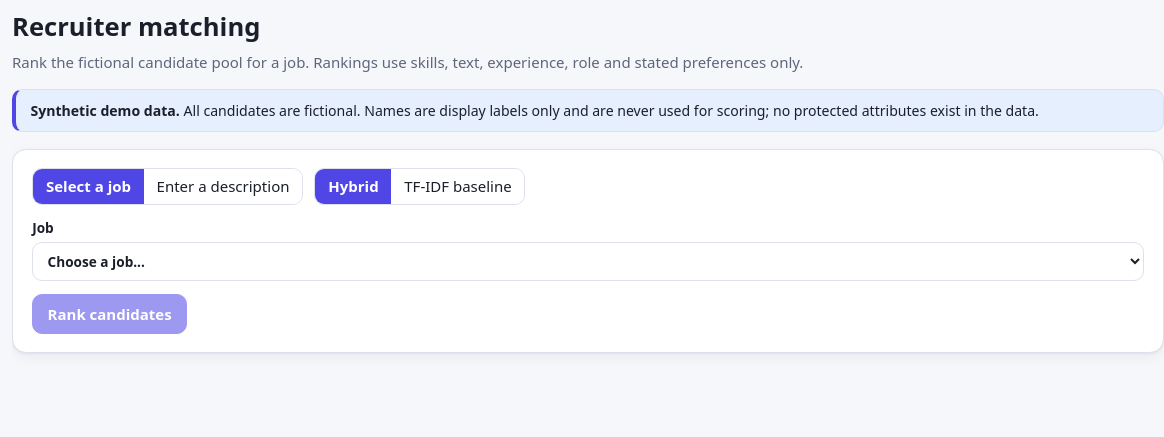
Test: Recruiter page › shows the API's validation message when matching fails
This screenshot has width=1164, height=437.
Select "Job 1 - Acme (fictional)" in the dropdown labelled "Job" at (588, 262), box [32, 242, 1144, 281]
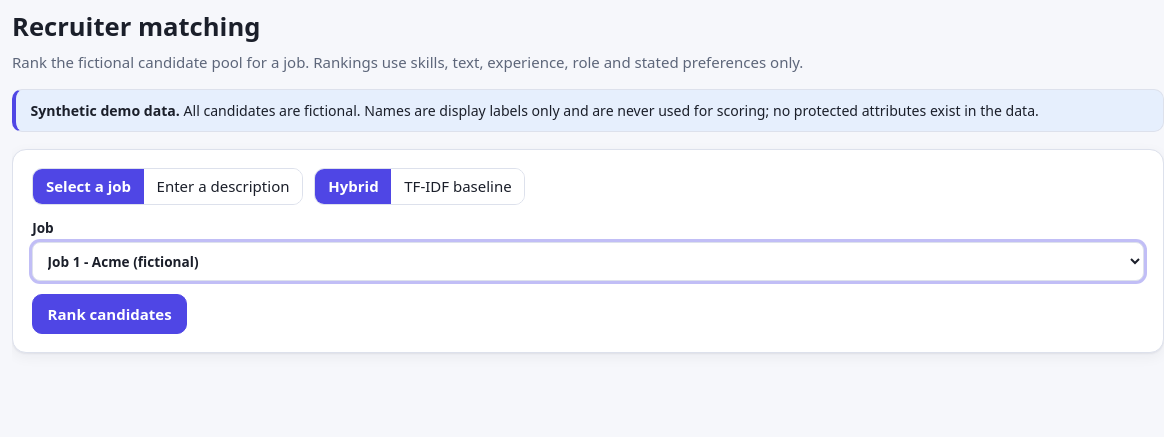
Click the button "Rank candidates".
click(110, 314)  # box [32, 294, 187, 334]
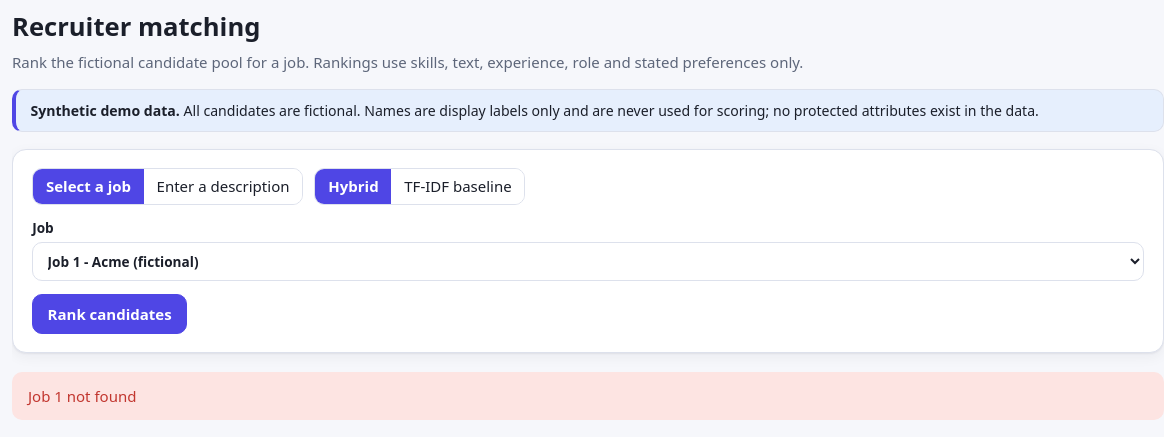
Check: the message reads "Job 1 not found", box [28, 386, 136, 406]
